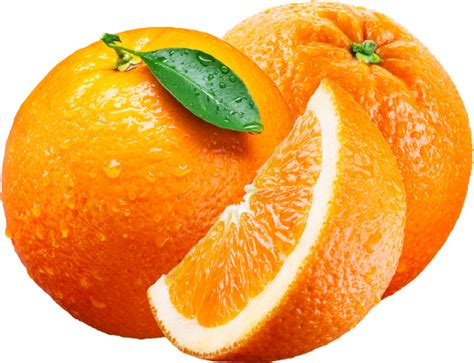orange: (1, 25, 284, 341), (230, 3, 473, 247)
